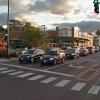Crosswalk: (1, 62, 93, 99)
